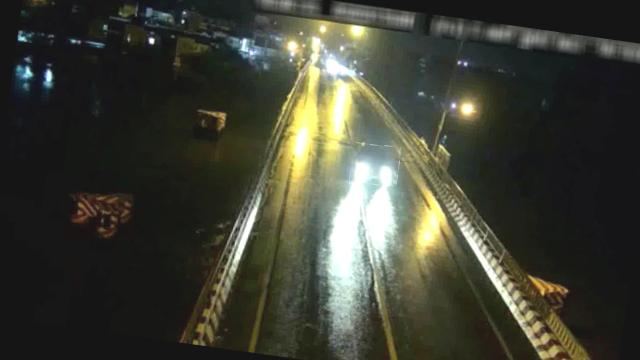Car: (348, 142, 401, 187)
